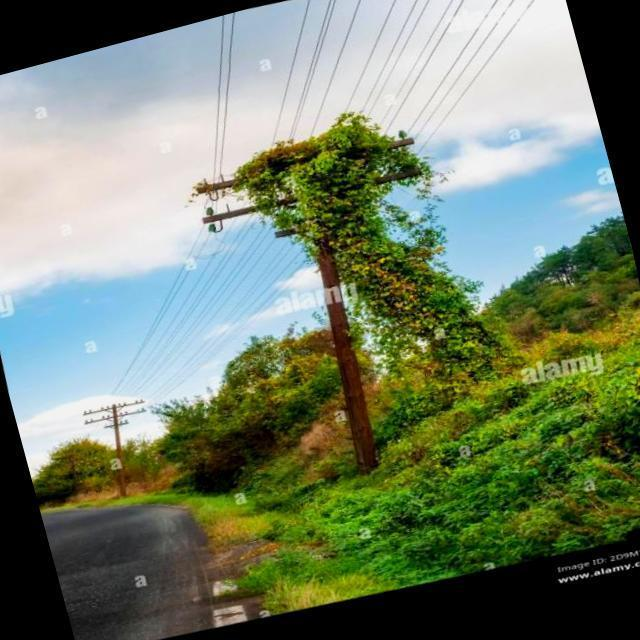critical vegetation: (170, 98, 483, 354)
